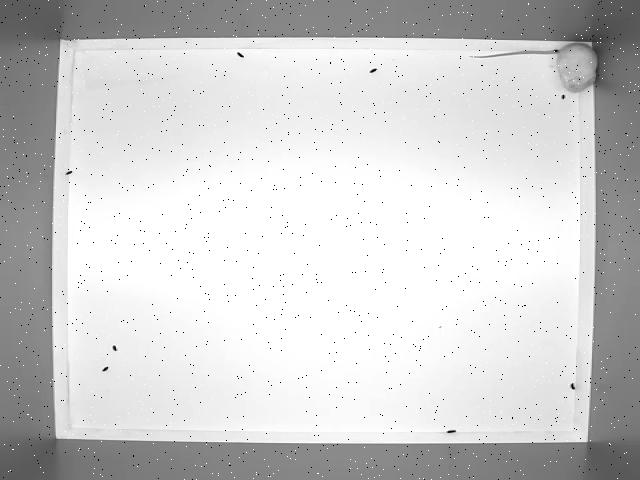Tikus: (468, 42, 599, 94)
